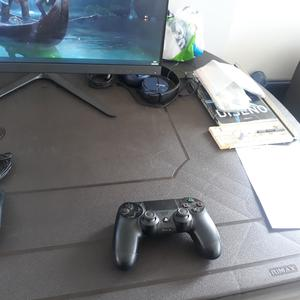controller: (113, 197, 222, 270)
